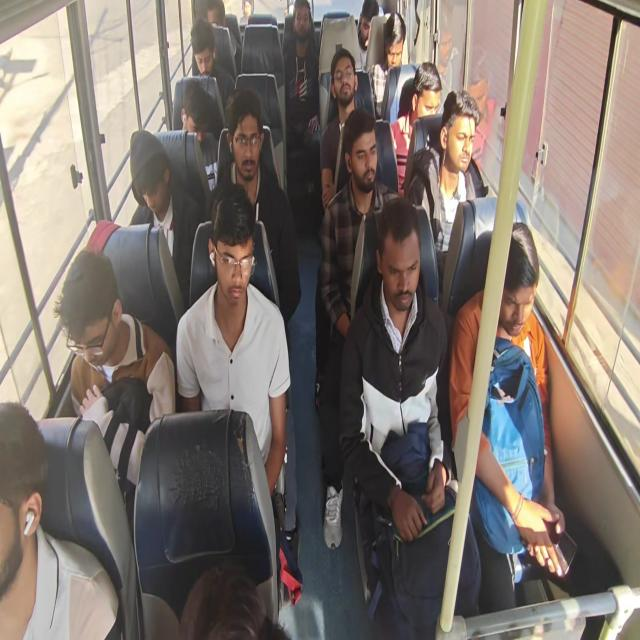person: (338, 195, 482, 638), (448, 221, 566, 591), (316, 107, 400, 549), (176, 183, 292, 501), (53, 248, 175, 533), (0, 401, 121, 638), (210, 90, 301, 330), (407, 89, 486, 253), (129, 129, 200, 308), (178, 560, 290, 638), (283, 1, 321, 218), (390, 60, 442, 194), (320, 48, 360, 211), (190, 17, 235, 112), (368, 11, 407, 111), (193, 0, 240, 77), (466, 44, 494, 167), (180, 80, 220, 140), (433, 23, 456, 114), (356, 0, 379, 71), (239, 0, 254, 25)
